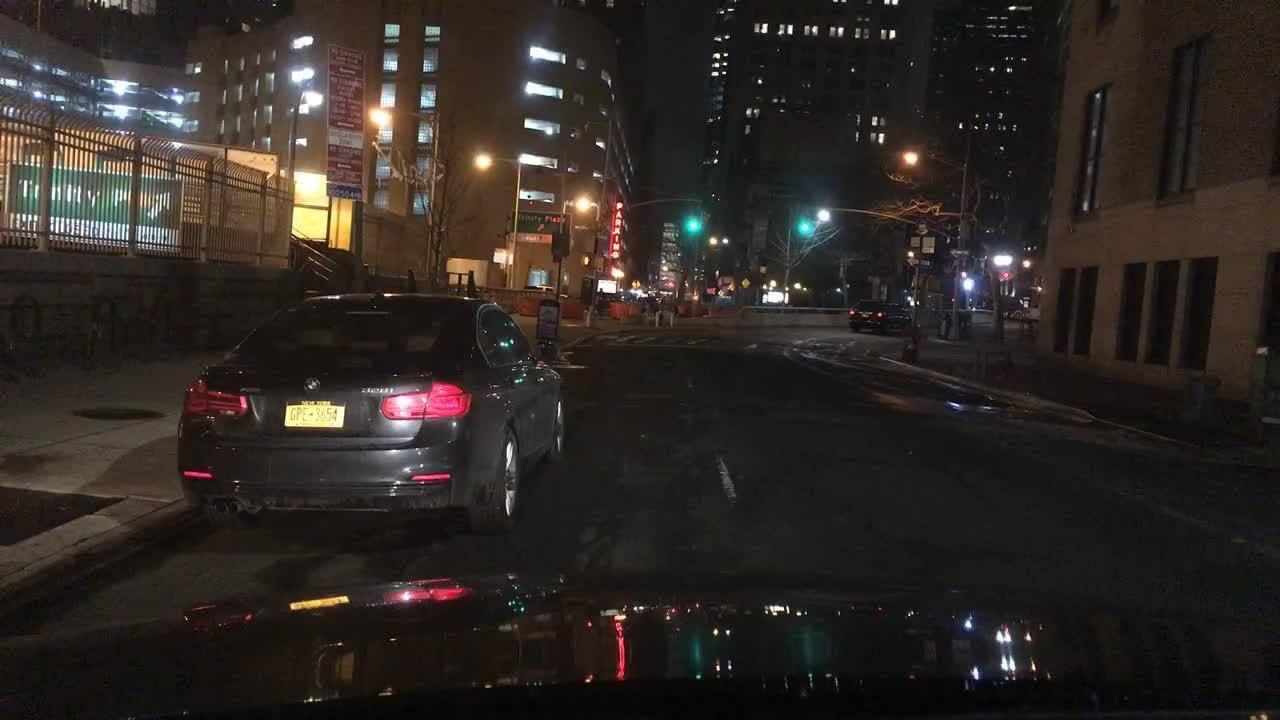bmw: (296, 373, 327, 396)
